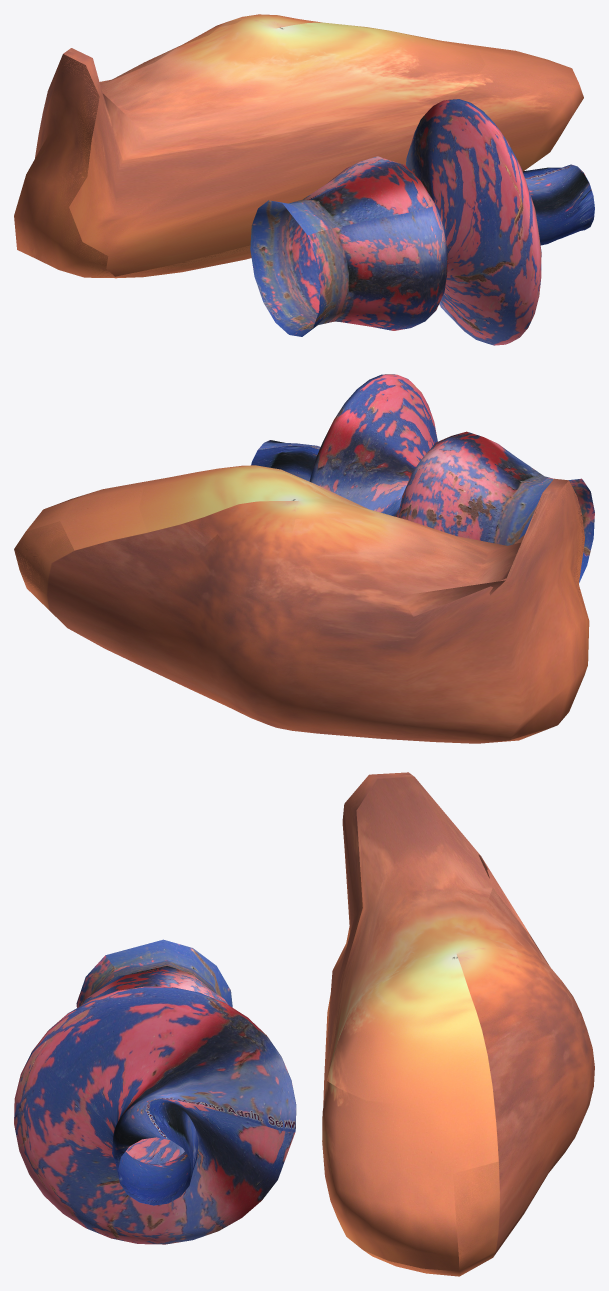
Rendered from both.obj.
3 views of the same model, one above another, from view 1: azimuth 30°, elevation 25°; view 2: azimuth 150°, elevation 25°; view 3: azimuth 270°, elevation 25° (orthographic). The views are drawn at different scales.
Parts seen in each view (by area): view 1: pSphere1, nurbsToPoly1; view 2: pSphere1, nurbsToPoly1; view 3: pSphere1, nurbsToPoly1.
Part boxes in pixels (x1=…): pSphere1: x1=14, y1=14, x2=583, y2=278; nurbsToPoly1: x1=250, y1=99, x2=594, y2=345; pSphere1: x1=14, y1=465, x2=589, y2=743; nurbsToPoly1: x1=251, y1=374, x2=594, y2=582; pSphere1: x1=322, y1=772, x2=594, y2=1276; nurbsToPoly1: x1=14, y1=939, x2=296, y2=1244.
Size of the model in its own units: 5.37 by 2.57 by 4.38.
2 materials, 2 textured.
